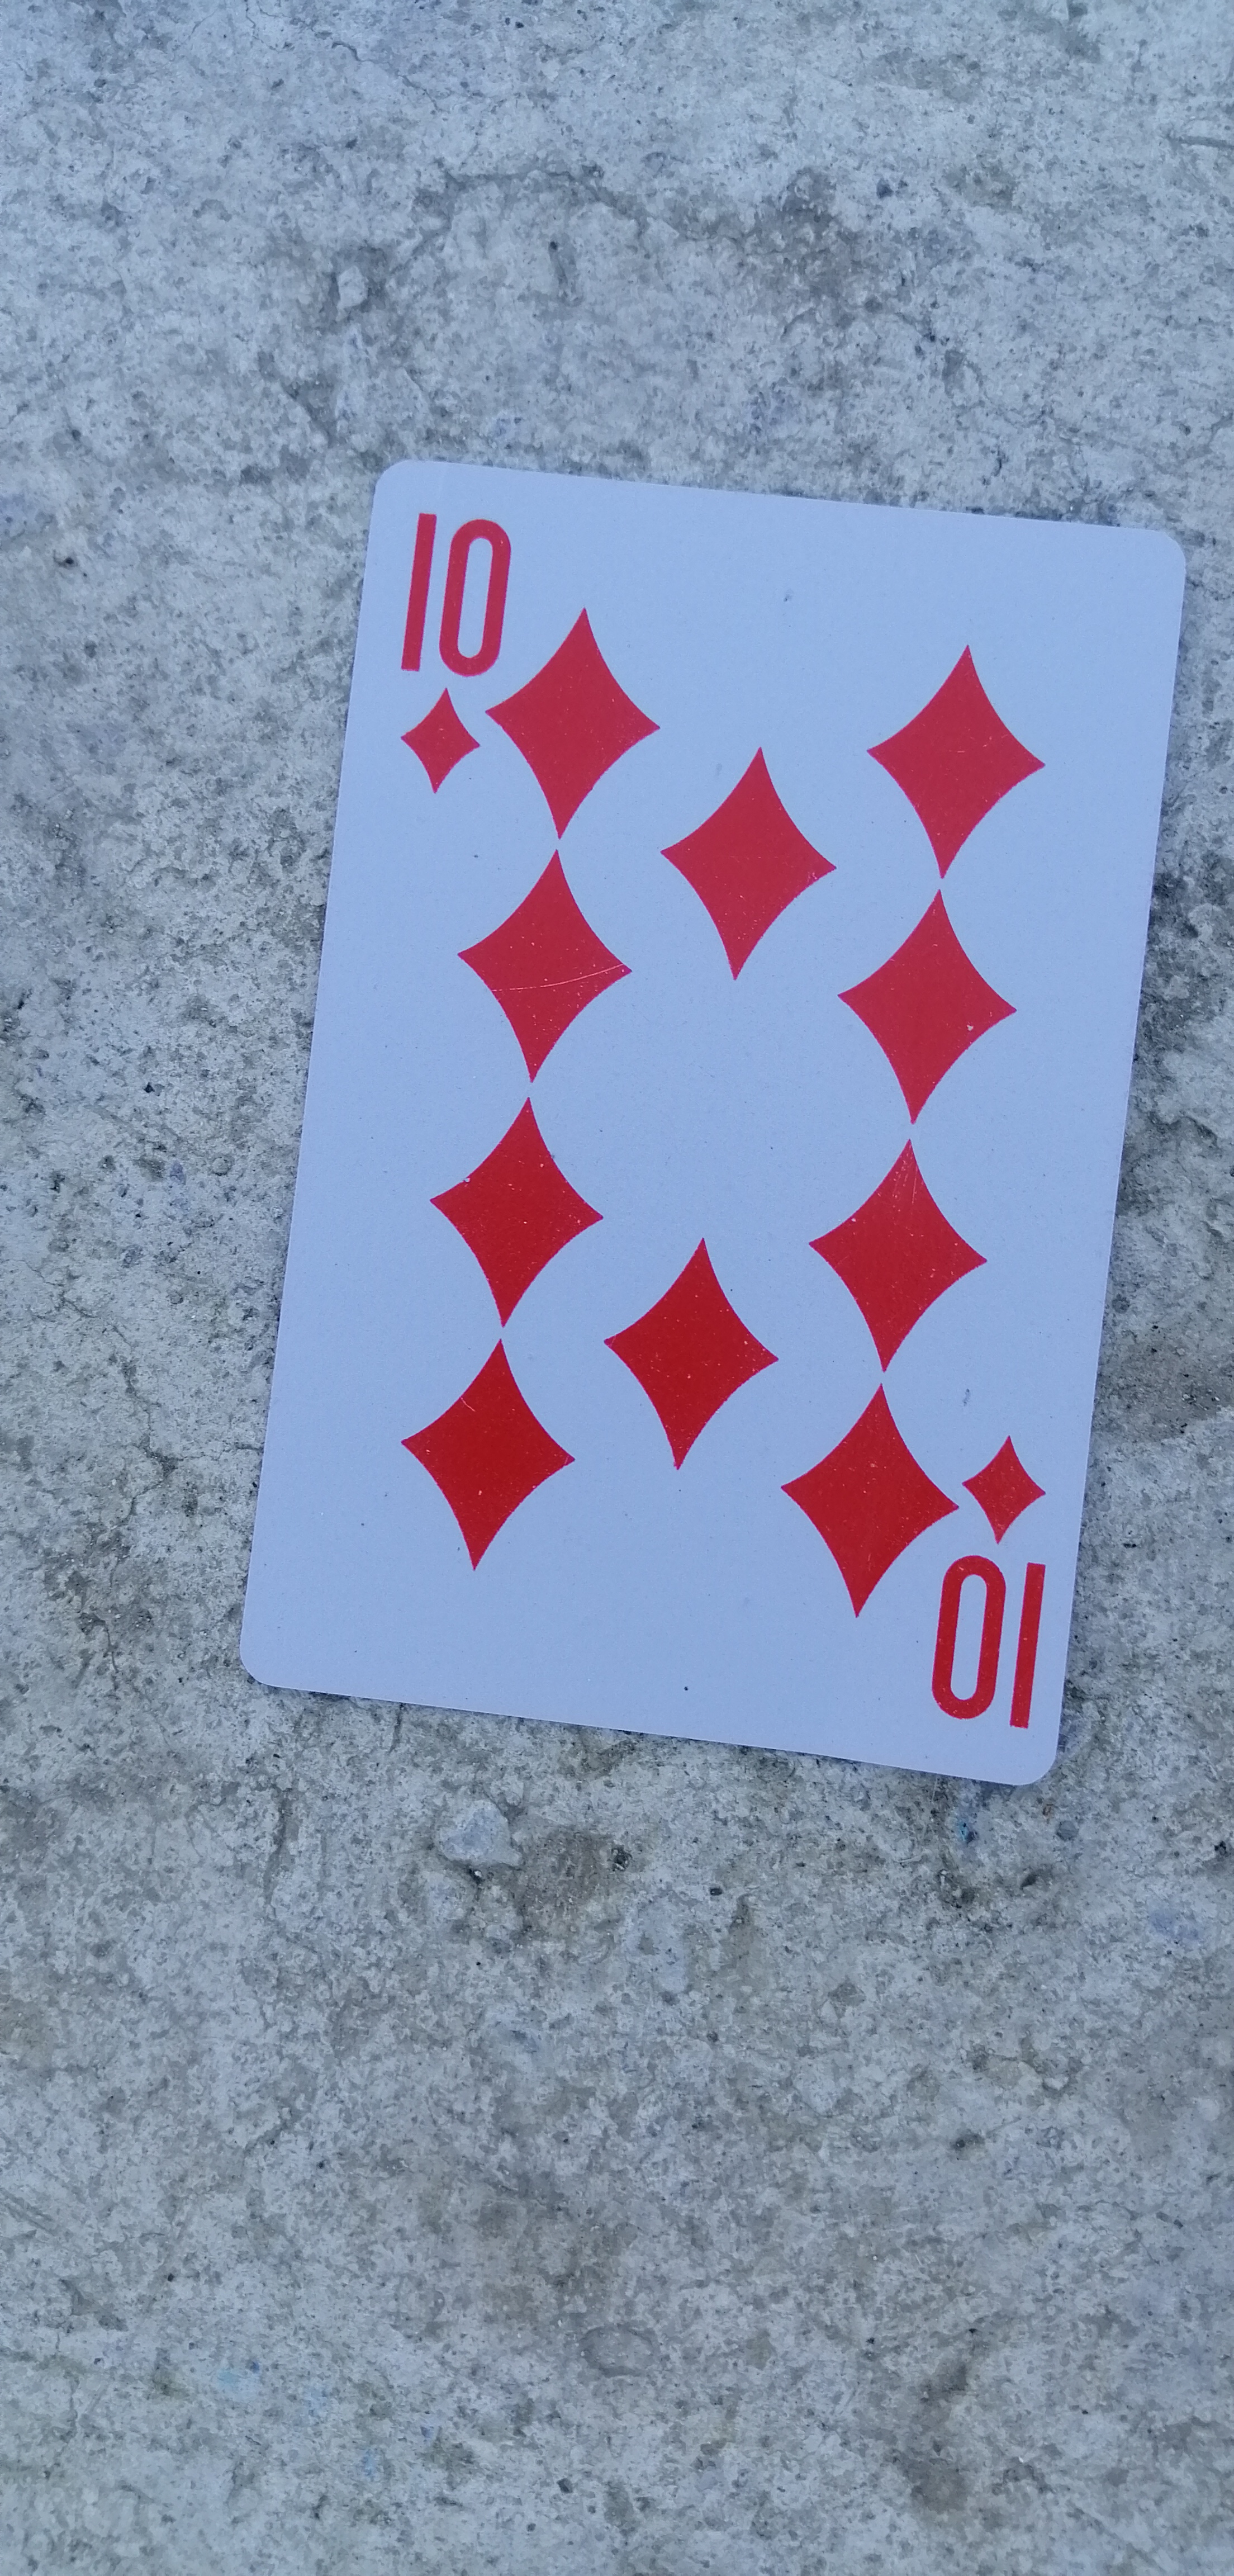ten: (232, 455, 1199, 1810)
